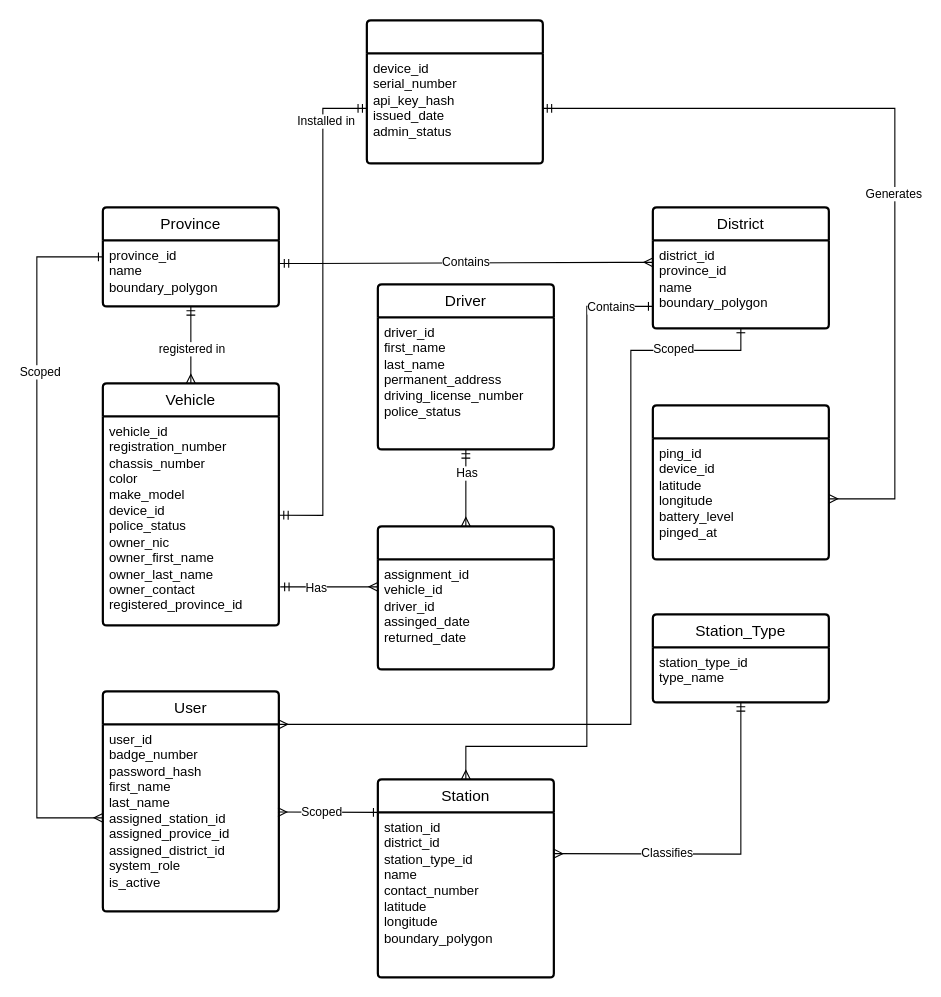
This 941x997 diagram has some shape labels left out. Here are the shapes that lost their labels. From the top down, the box of each, then its label:
(365, 19, 543, 164): Tracking_Device
(651, 404, 829, 560): Location_Ping
(376, 525, 554, 670): Vehicle_Driver_ Assignment
